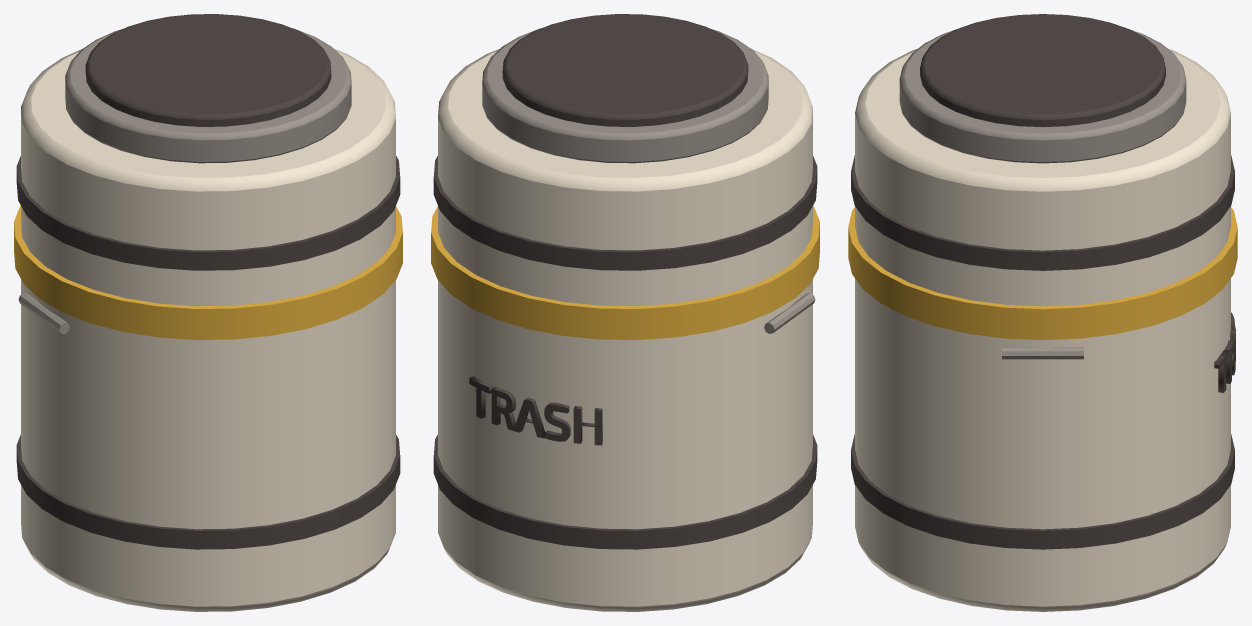
The model's file is prop_trash_can.glb.
The picture shows the model from 3 angles, left to right: view 1: azimuth 30°, elevation 25°; view 2: azimuth 150°, elevation 25°; view 3: azimuth 270°, elevation 25°; orthographic projection.
Parts seen in each view (by area): view 1: can-col, detail-col; view 2: can-col, detail-col; view 3: can-col, detail-col.
Part boxes in pixels (box(x1,y1,x2,y2)): can-col: box(21, 49, 395, 611); detail-col: box(14, 14, 402, 549); can-col: box(438, 49, 812, 611); detail-col: box(431, 14, 819, 549); can-col: box(855, 48, 1230, 611); detail-col: box(848, 14, 1237, 549).
Bounding box in the file's own units: 1.15 × 1.52 × 1.14.
